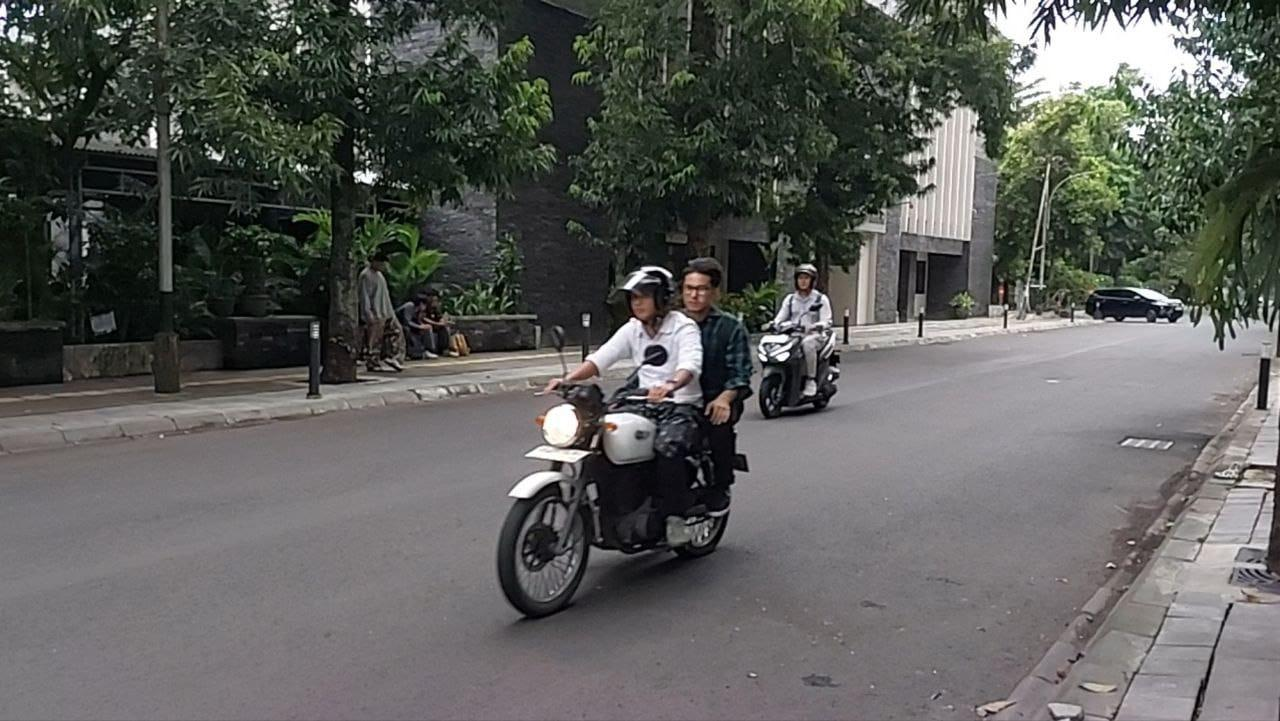helm: (624, 265, 675, 321), (793, 263, 818, 292)
nohelm: (679, 256, 724, 313)
riding: (496, 254, 755, 619), (756, 263, 842, 419)
